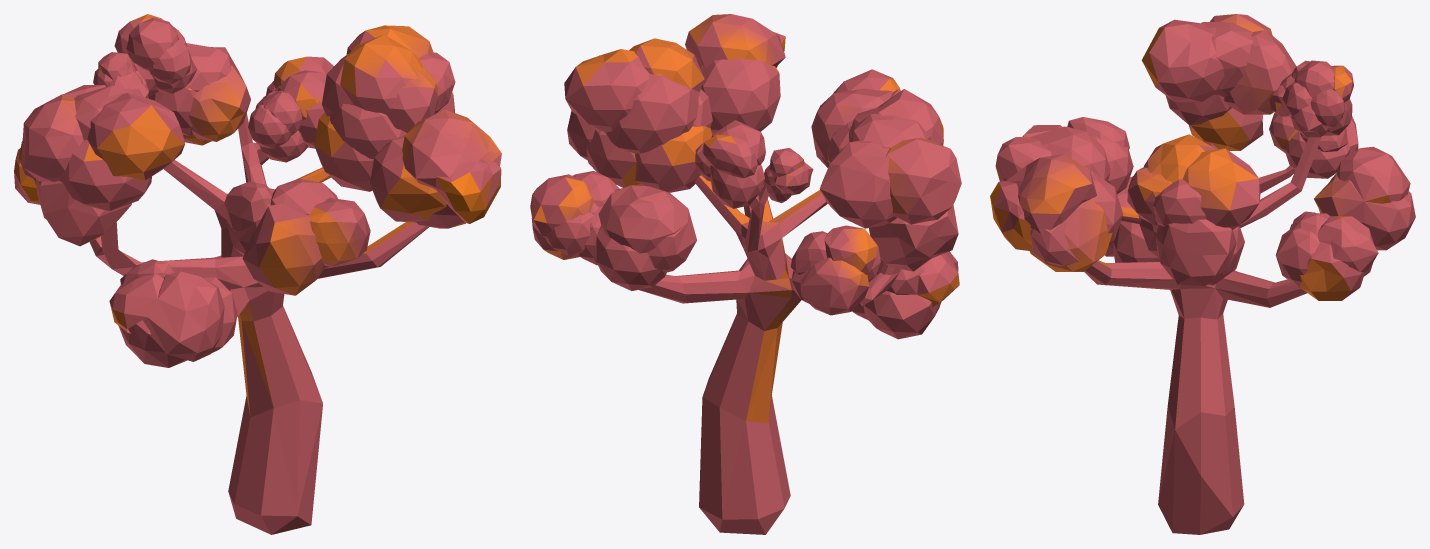
File: tree3 (1).fbx
The picture shows the model from 3 angles, left to right: view 1: azimuth 30°, elevation 25°; view 2: azimuth 150°, elevation 25°; view 3: azimuth 270°, elevation 25°; orthographic projection. The views are drawn at different scales.
Visible parts, largest first — view 1: Cube; view 2: Cube; view 3: Cube.
Boxes of the visible parts, x1,y1,x2,y2 form: Cube: (14,14,501,534); Cube: (530,14,961,534); Cube: (990,14,1415,534).
Size of the model in its own units: 1491 by 1648 by 1459.
1 material, 1 textured.
